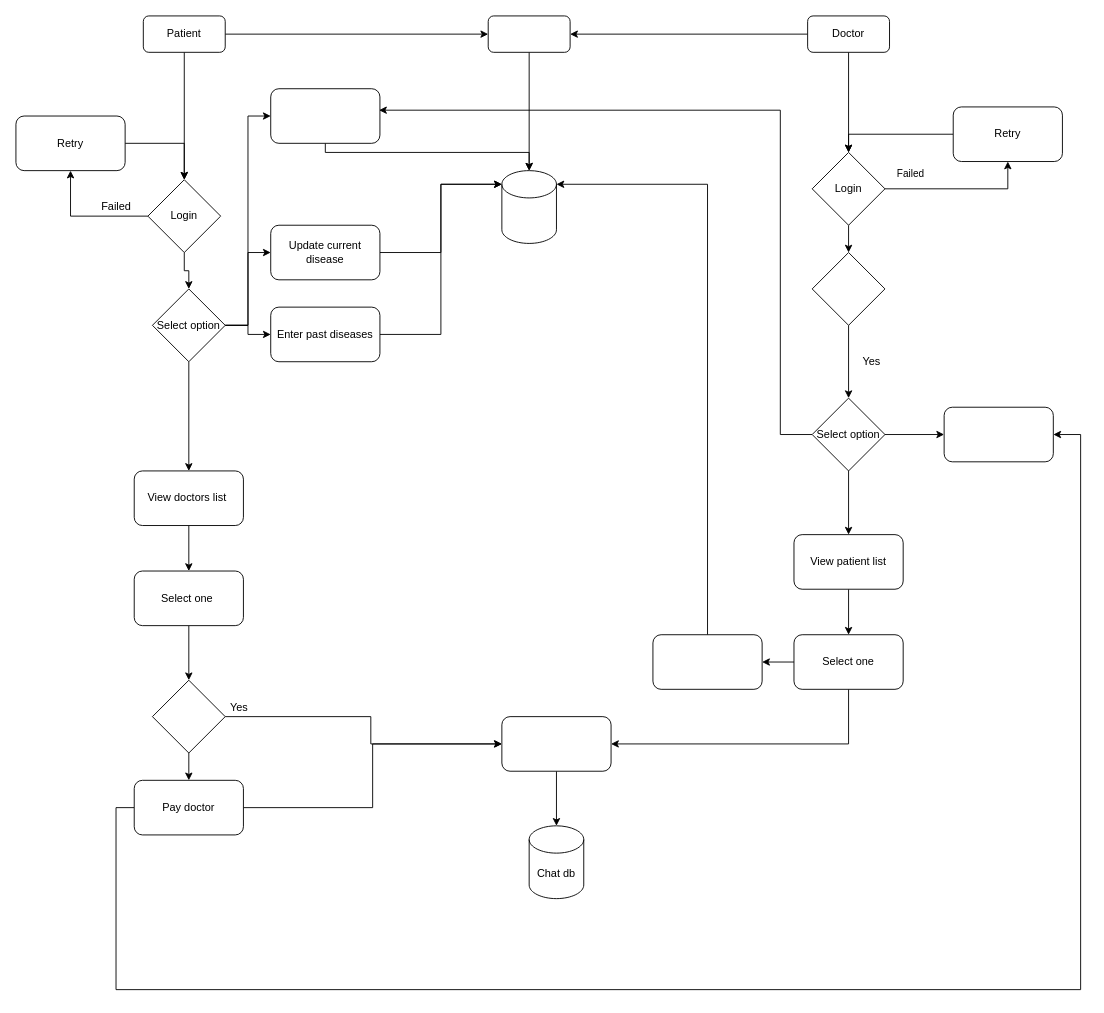
Image size: 1104x1013. Some labels were removed from this diagram. Here are the shapes that lost their labels. From the top down, the centre of each, then its label:
point (528, 33): Register
point (325, 115): give feedback
point (528, 206): Main db
point (848, 288): Admin approved?
point (998, 434): Receive payment
point (707, 661): View patient disease/reports
point (188, 716): Already paid?
point (556, 743): Chat/ consult
